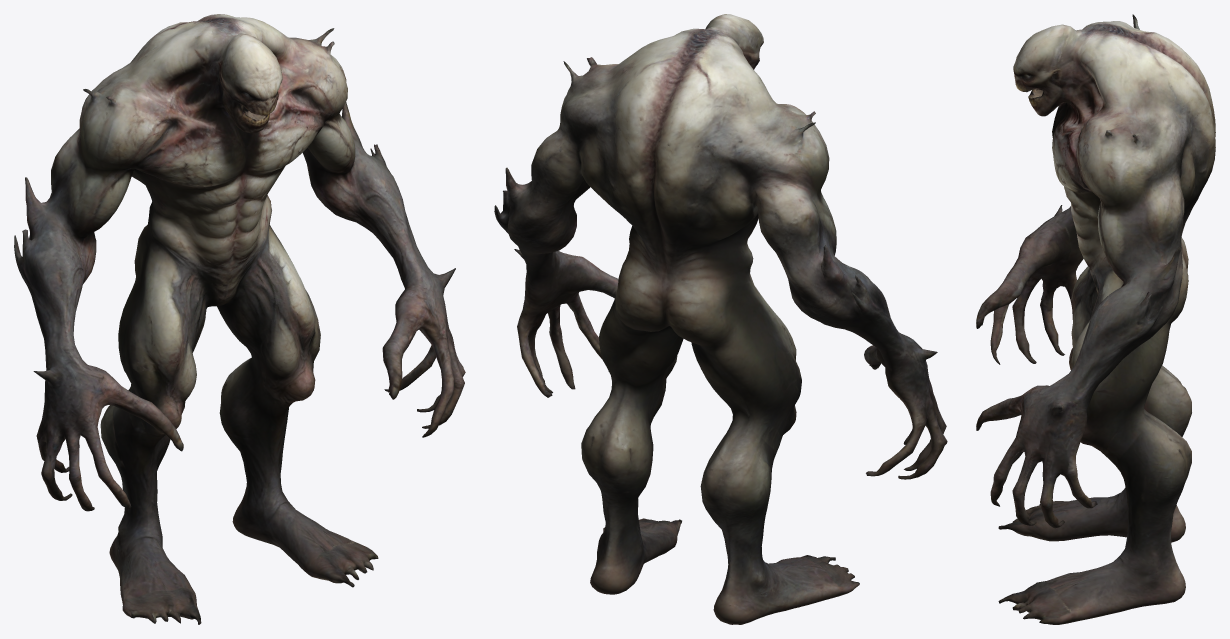
File: mutant.fbx
The picture shows the model from 3 angles, left to right: view 1: azimuth 30°, elevation 25°; view 2: azimuth 150°, elevation 25°; view 3: azimuth 270°, elevation 25°; orthographic projection.
Visible parts, largest first — view 1: Mesh1_Mesh1.010; view 2: Mesh1_Mesh1.010; view 3: Mesh1_Mesh1.010.
Part boxes in pixels (box(x1,y1,x2,y2)): Mesh1_Mesh1.010: box(14, 14, 465, 624); Mesh1_Mesh1.010: box(494, 14, 947, 624); Mesh1_Mesh1.010: box(976, 14, 1215, 624).
Size of the model in its own units: 159 by 200 by 79.34.
1 material, 1 textured.
